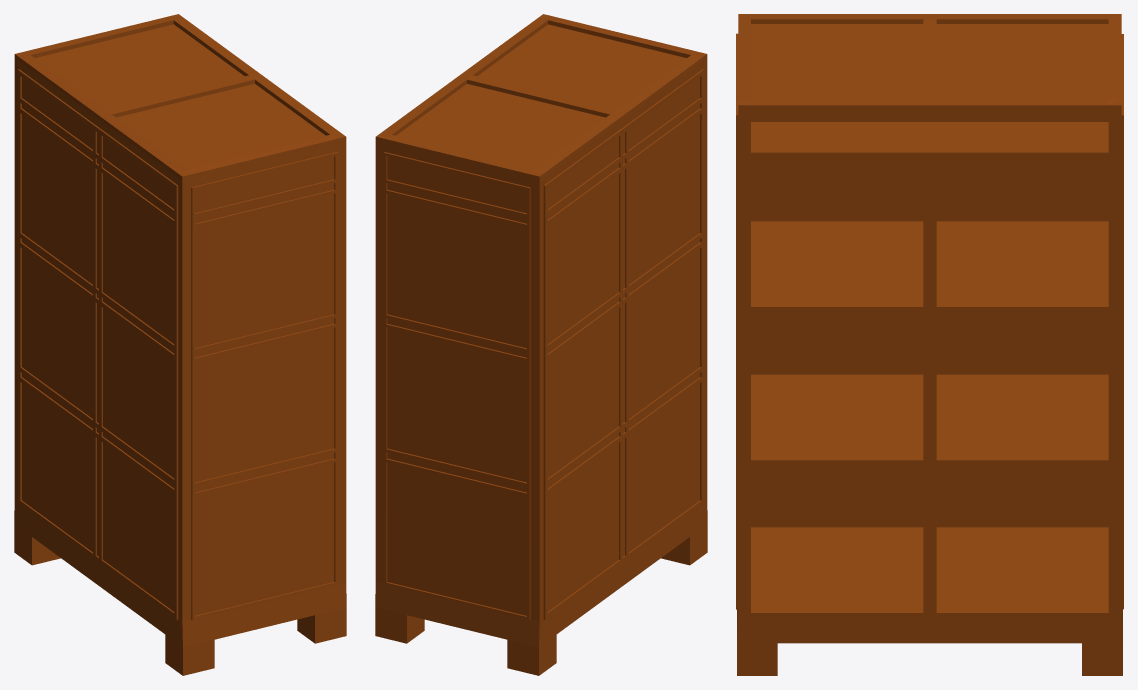
The model's file is OpenCabinetHigh.fbx.
3 renders of one model, left to right at view 1: azimuth 30°, elevation 25°; view 2: azimuth 150°, elevation 25°; view 3: azimuth 270°, elevation 25°, orthographic. The views are drawn at different scales.
Visible parts, largest first — view 1: OpenCabinetHigh; view 2: OpenCabinetHigh; view 3: OpenCabinetHigh.
Part boxes in pixels (left/top/right/bottom): OpenCabinetHigh: left=14, top=14, right=346, bottom=675; OpenCabinetHigh: left=375, top=14, right=707, bottom=675; OpenCabinetHigh: left=736, top=14, right=1123, bottom=675.
Bounding box in the file's own units: 283 × 817 × 503.
